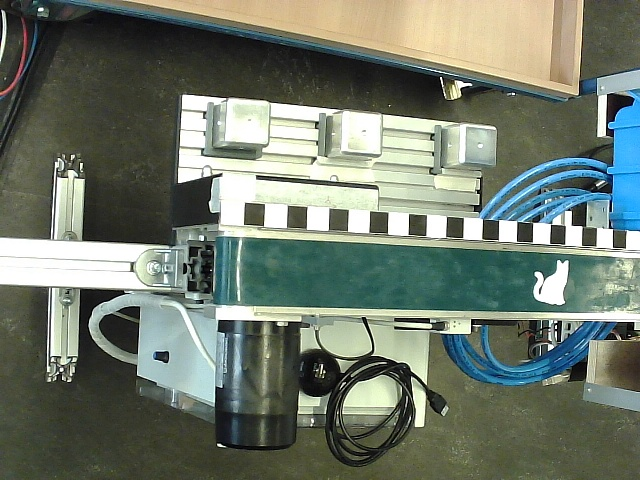cat: (532, 259, 571, 306)
